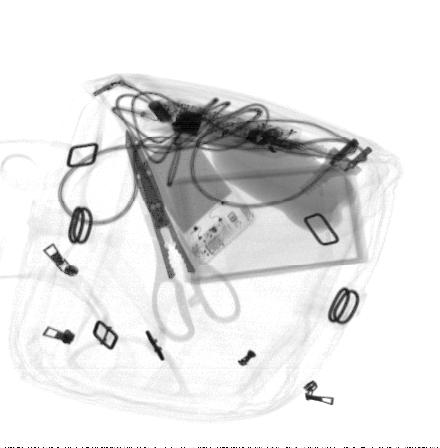Powerbank: (127, 123, 258, 267)
Scissors: (125, 128, 242, 343)
